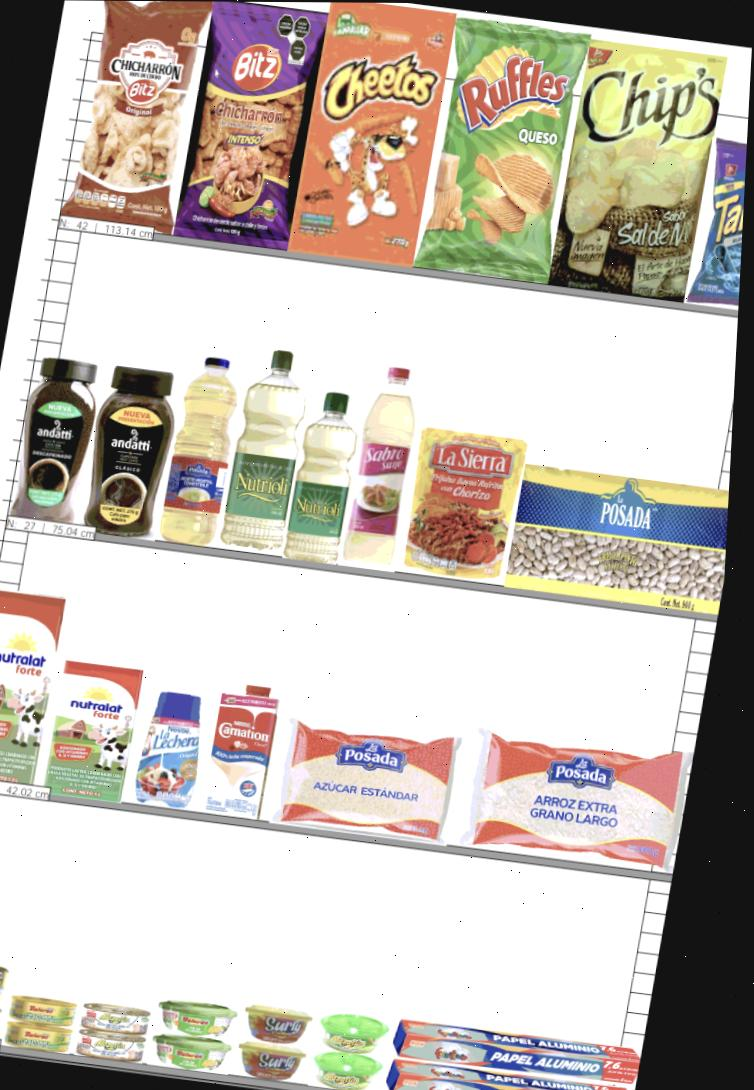aceite_nutrioli_400ml: (284, 386, 365, 560)
aceite_nutrioli_850ml: (219, 345, 314, 560)
aceite_posada: (156, 352, 246, 548)
aceite_saborsano: (341, 360, 423, 567)
andatti: (2, 353, 104, 521), (81, 362, 177, 539)
arroz_laposada: (453, 724, 690, 869)
atun_dolores_blanco: (149, 991, 238, 1074)
atun_dolores_masdos: (0, 947, 9, 1037)
atun_dolores_naranja: (235, 999, 318, 1084)
atun_dolores_normal: (3, 992, 77, 1052)
atun_mazatun: (71, 994, 154, 1060)
atun_mazatun_verde: (309, 1005, 390, 1090)
azucar_laposada: (274, 717, 460, 842)
carnation: (201, 680, 282, 817)
cheetos: (283, 2, 459, 274)
chicharron_bitz_intenso: (175, 1, 324, 251)
chicharron_bitz_natural: (54, 0, 207, 244)
chips_sal: (550, 36, 726, 305)
frijol_laposada: (503, 460, 730, 617)
frijol_lasierra: (398, 425, 524, 587)
lalechera: (130, 686, 213, 808)
leche_nutralatforte: (42, 658, 144, 802), (0, 592, 71, 782)
papel_aluminio: (395, 1035, 638, 1090)
ruffles: (422, 13, 587, 284)
takis: (687, 136, 747, 318)
